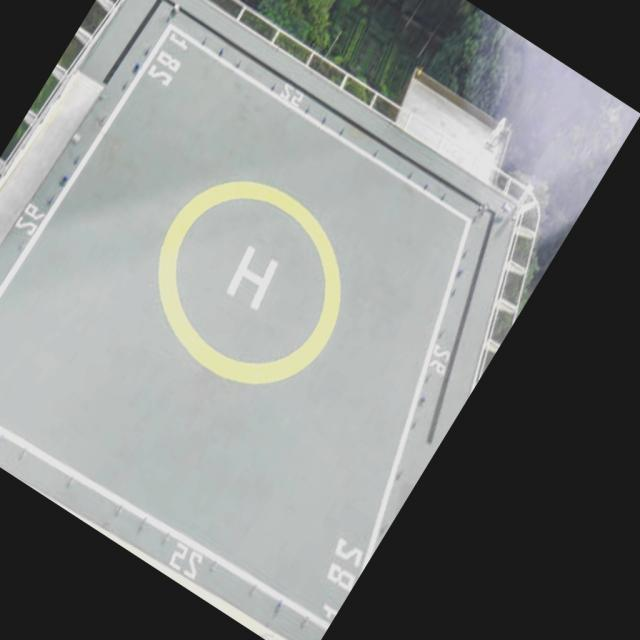helipad: (150, 170, 349, 390)
